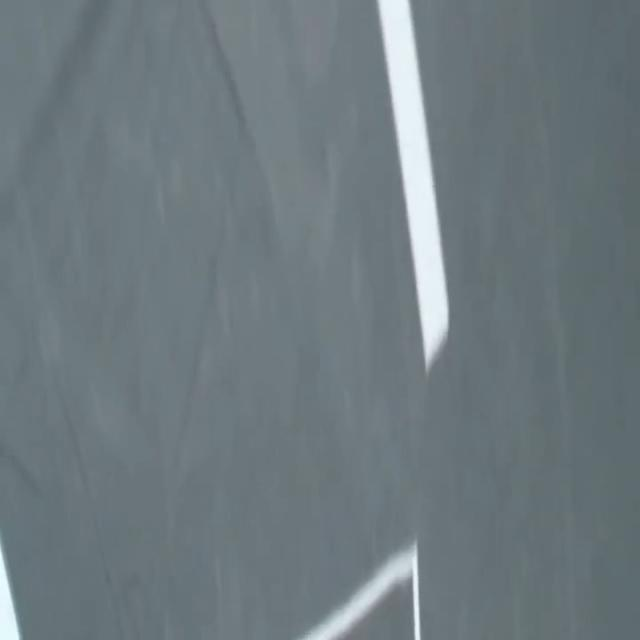center: (377, 0, 448, 372)
left: (0, 542, 20, 639)
